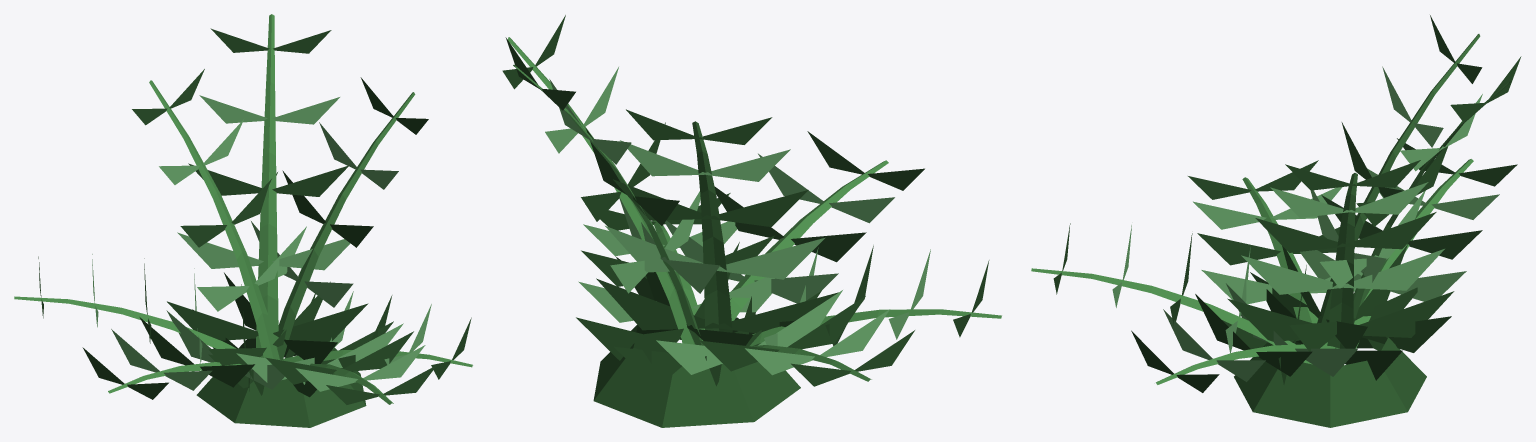
The model's file is FernClump.fbx.
The picture shows the model from 3 angles, left to right: view 1: azimuth 30°, elevation 25°; view 2: azimuth 150°, elevation 25°; view 3: azimuth 270°, elevation 25°; orthographic projection. The views are drawn at different scales.
Visible parts, largest first — view 1: FernClump; view 2: FernClump; view 3: FernClump.
Part boxes in pixels (bbox=[...]): FernClump: bbox=[14, 14, 472, 427]; FernClump: bbox=[502, 15, 1001, 427]; FernClump: bbox=[1031, 15, 1521, 427].
Size of the model in its own units: 93.2 by 76.04 by 98.88.
